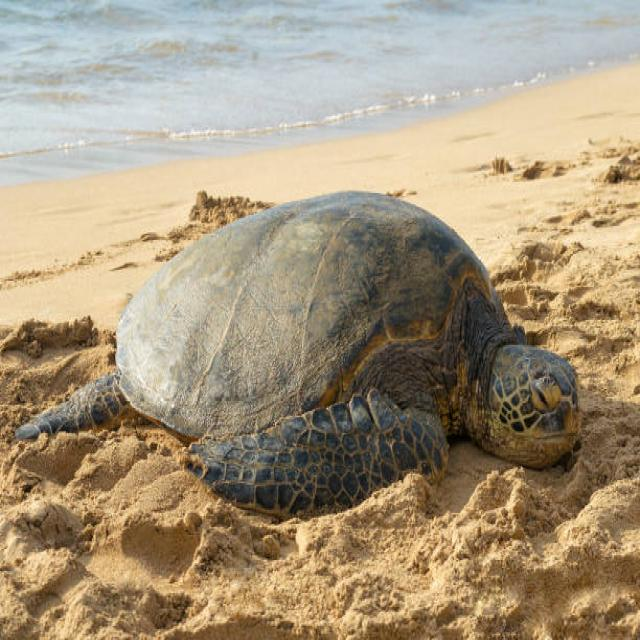sea turtle: (89, 171, 600, 517), (166, 400, 472, 518), (476, 328, 592, 481), (11, 341, 137, 469)
